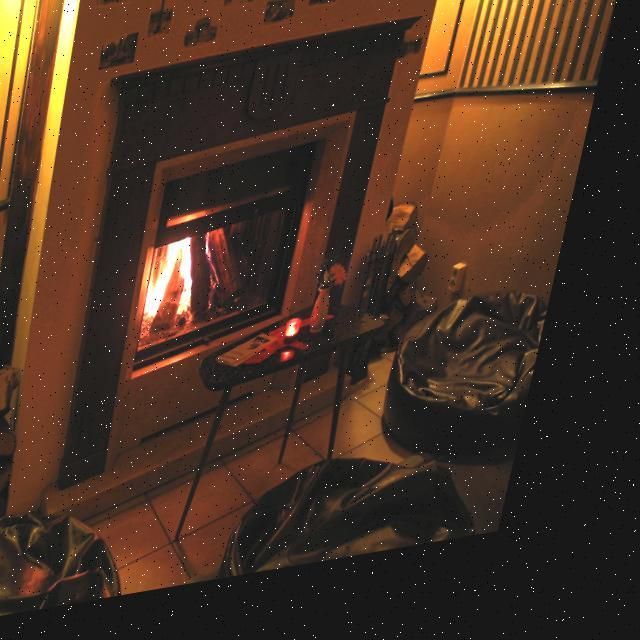Fire: (144, 221, 229, 366)
